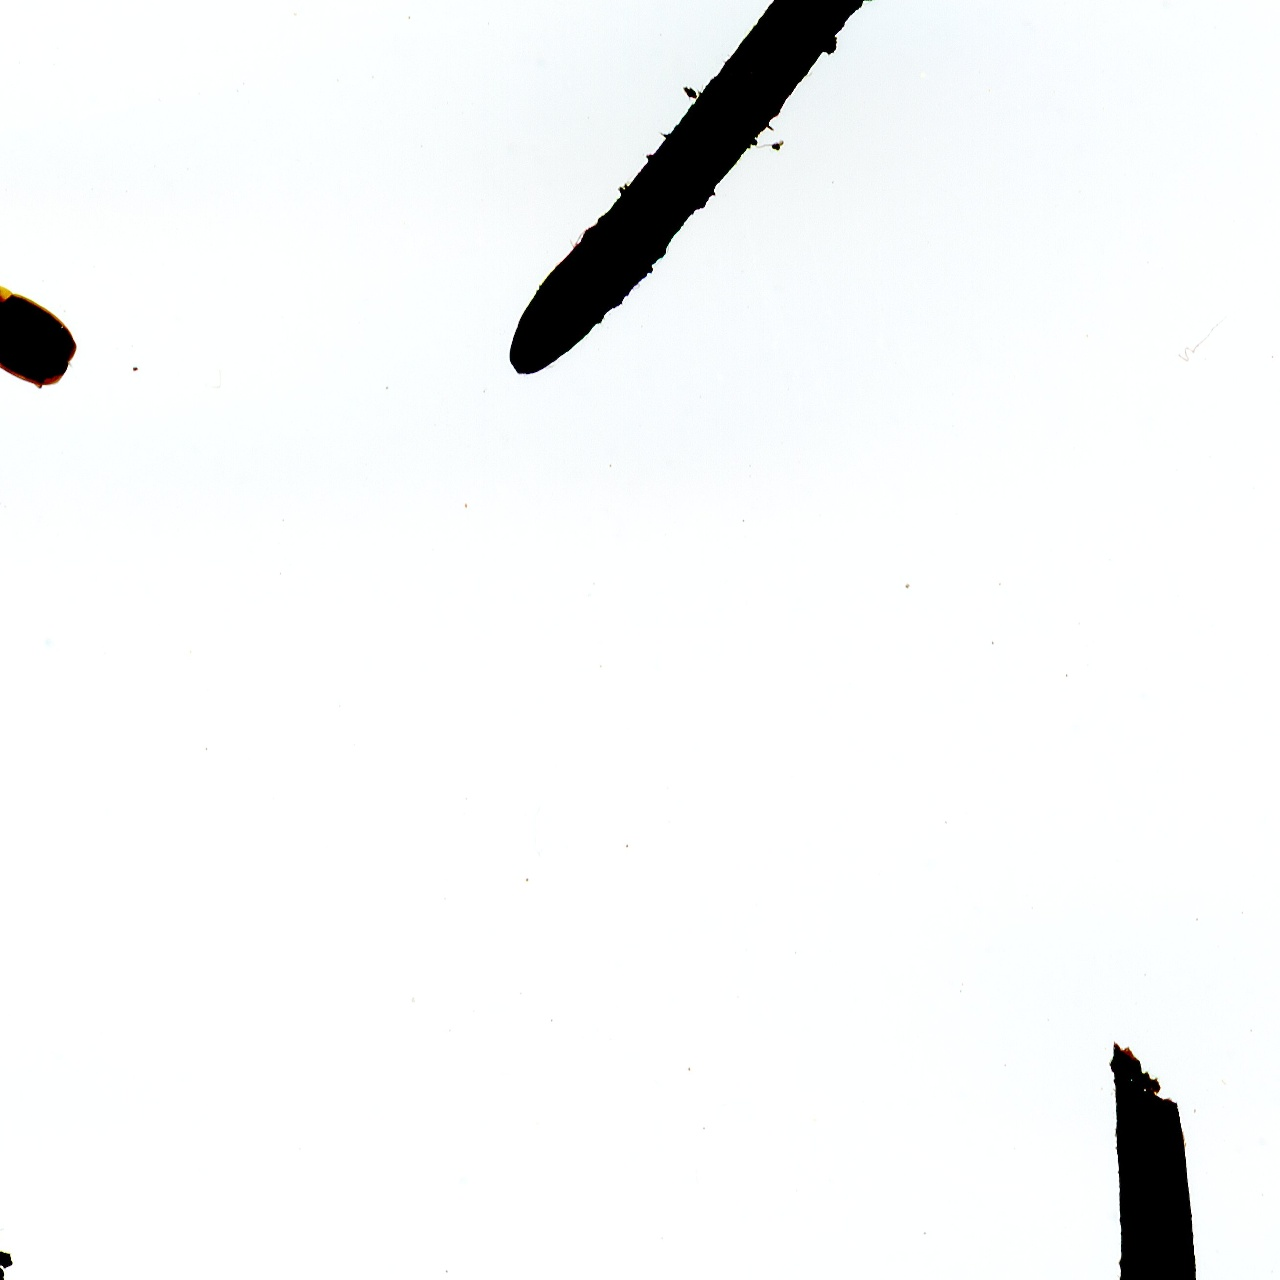arthropod: (0, 252, 96, 409)
